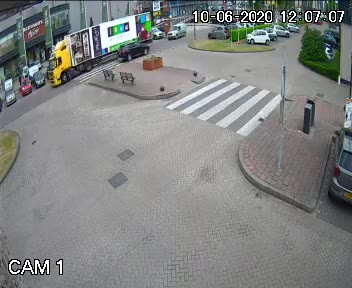car: (33, 7, 154, 86), (115, 41, 154, 60), (166, 22, 189, 38)
